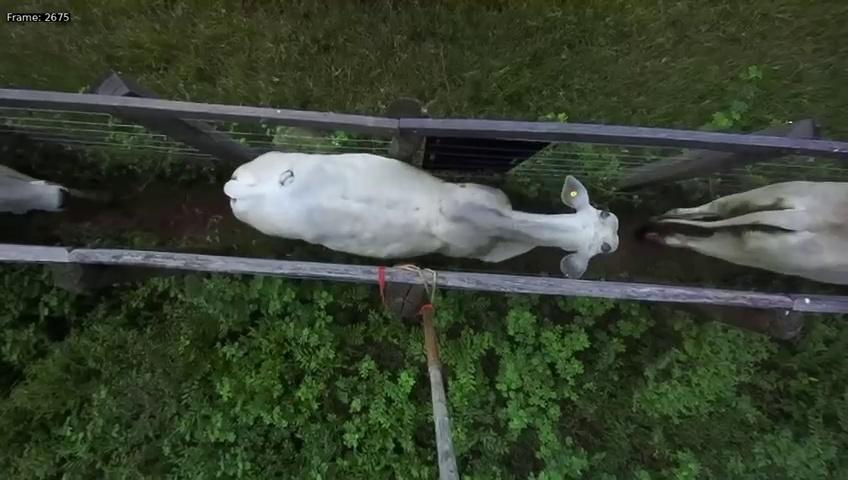cattle: (220, 129, 623, 279)
